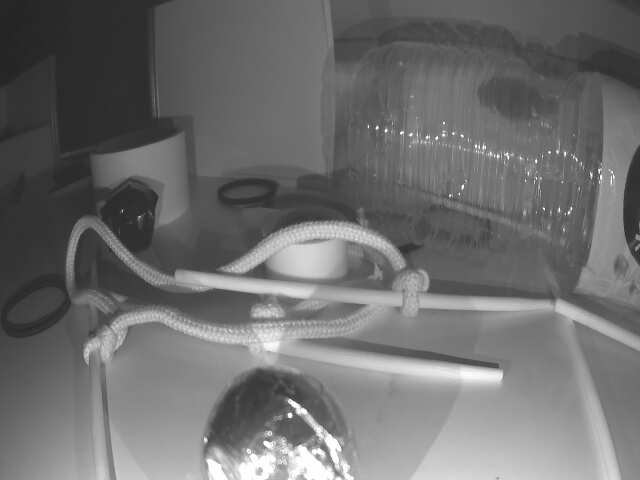Dead: (102, 185, 155, 249)
Live: (197, 367, 353, 480)
Point: (0, 124, 53, 190)
